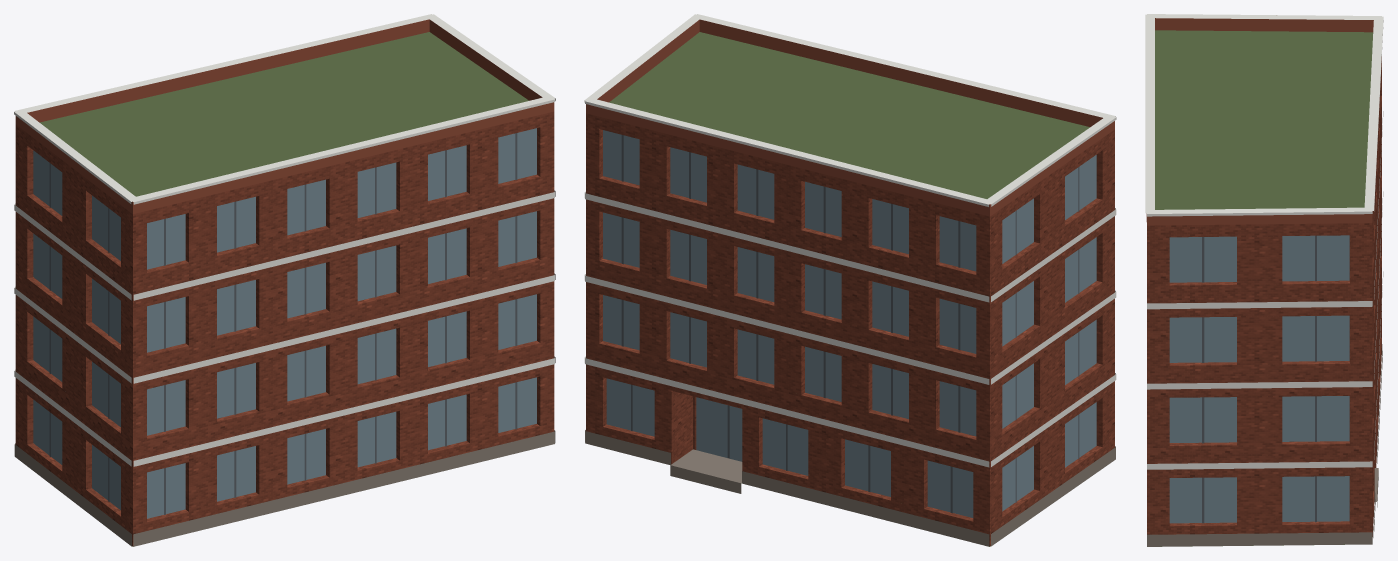
The picture shows the model from 3 angles, left to right: view 1: azimuth 30°, elevation 25°; view 2: azimuth 150°, elevation 25°; view 3: azimuth 270°, elevation 25°; orthographic projection. The views are drawn at different scales.
Visible parts, largest first — view 1: unk8220__wall, unk8220__glass, unk8220__roof, unk8220__trim, unk8220__parapet, unk8220__base, unk8220__frame; view 2: unk8220__wall, unk8220__glass, unk8220__roof, unk8220__trim, unk8220__parapet, unk8220__base, unk8220__frame; view 3: unk8220__wall, unk8220__roof, unk8220__glass, unk8220__trim, unk8220__parapet, unk8220__base, unk8220__frame.
Boxes of the visible parts, x1,y1,x2,y2 form: unk8220__wall: (15, 111, 554, 546); unk8220__glass: (33, 128, 536, 518); unk8220__roof: (39, 32, 528, 546); unk8220__trim: (14, 14, 555, 466); unk8220__parapet: (15, 19, 554, 213); unk8220__base: (14, 430, 555, 546); unk8220__frame: (49, 133, 517, 514); unk8220__wall: (586, 113, 1114, 546); unk8220__glass: (603, 130, 1096, 517); unk8220__roof: (609, 32, 1089, 546); unk8220__trim: (584, 14, 1116, 467); unk8220__parapet: (586, 19, 1114, 216); unk8220__base: (585, 430, 1115, 546); unk8220__frame: (621, 135, 1079, 513); unk8220__wall: (1147, 56, 1381, 536); unk8220__roof: (1155, 30, 1381, 546); unk8220__glass: (1169, 235, 1349, 523); unk8220__trim: (1145, 14, 1383, 469); unk8220__parapet: (1146, 18, 1373, 225); unk8220__base: (1147, 344, 1382, 546); unk8220__frame: (1202, 235, 1316, 523).
Bounding box in the file's own units: 17.65 × 14.1 × 8.88.
Materials: 8 (1 with a texture image).
